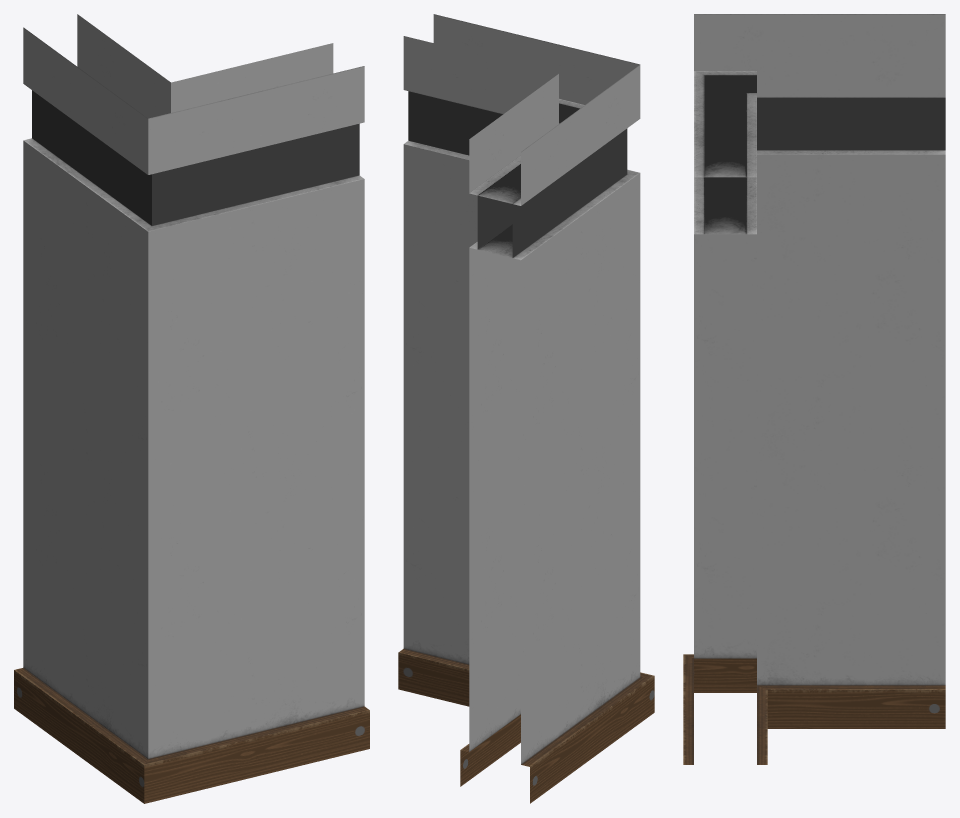
Rendered from ModularAsset_Wall_Corner_Out.fbx.
3 renders of one model, left to right at view 1: azimuth 30°, elevation 25°; view 2: azimuth 150°, elevation 25°; view 3: azimuth 270°, elevation 25°, orthographic. The views are drawn at different scales.
Parts seen in each view (by area): view 1: ModularAsset_Wall_Corner_Out; view 2: ModularAsset_Wall_Corner_Out; view 3: ModularAsset_Wall_Corner_Out.
Boxes of the visible parts, box(x1,y1,x2,y2) form: ModularAsset_Wall_Corner_Out: box(14, 14, 369, 803); ModularAsset_Wall_Corner_Out: box(398, 14, 654, 803); ModularAsset_Wall_Corner_Out: box(683, 14, 945, 764).
Bounding box in the file's own units: 104 × 300 × 104.
